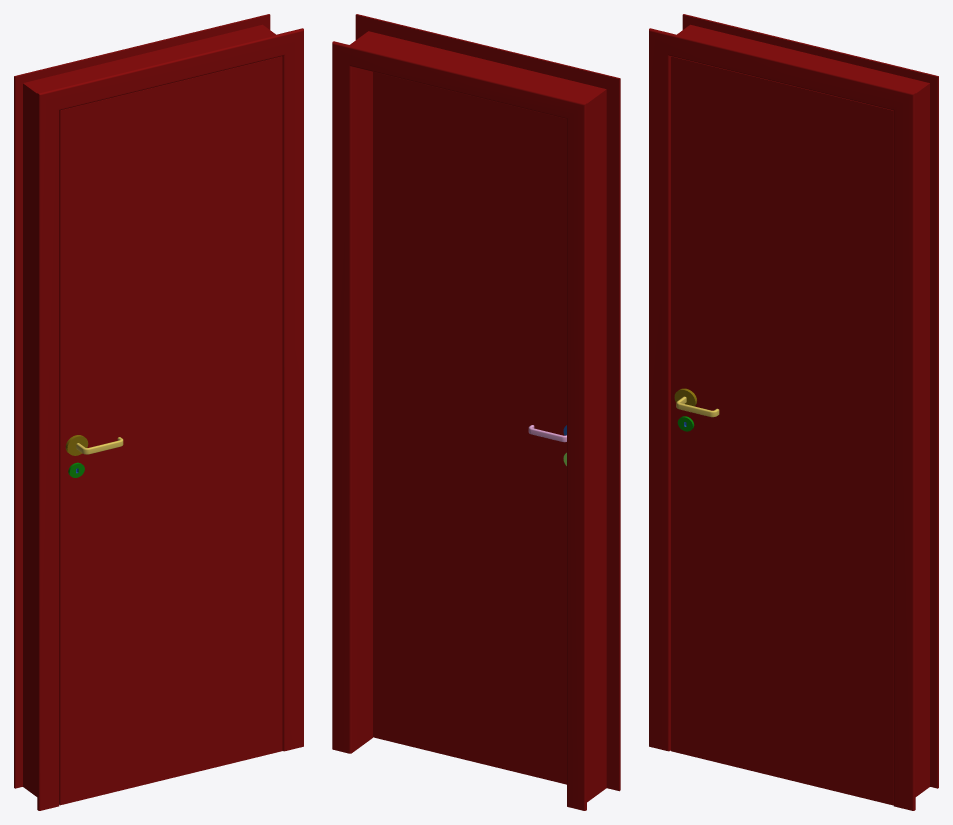
The model's file is doors_2.obj.
3 renders of one model, left to right at view 1: azimuth 30°, elevation 25°; view 2: azimuth 150°, elevation 25°; view 3: azimuth 330°, elevation 25°, orthographic.
Visible parts, largest first — view 1: Group_4_001, Group_001; view 2: Group_4_001, Group_001; view 3: Group_4_001, Group_001.
Part boxes in pixels (x1,y1,x2,y2): Group_4_001: [59, 56, 282, 805]; Group_001: [14, 14, 303, 810]; Group_4_001: [373, 72, 566, 784]; Group_001: [332, 14, 620, 810]; Group_4_001: [671, 56, 893, 805]; Group_001: [649, 14, 938, 810].
Size of the model in its own units: 829 by 2140 by 221.
